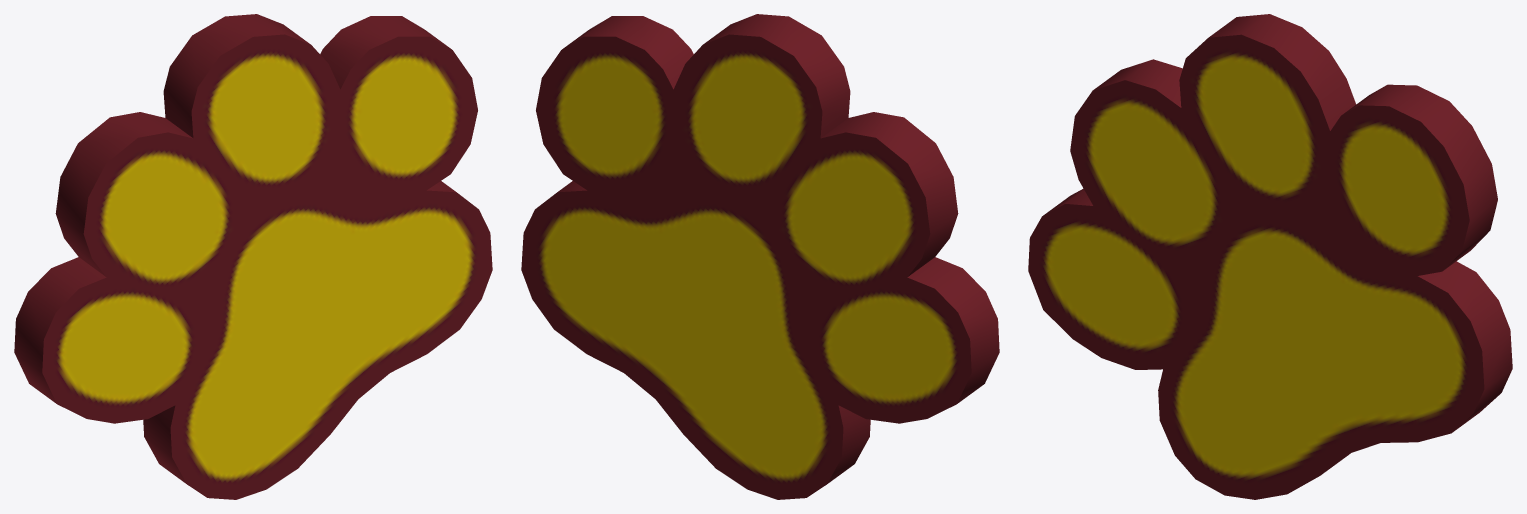
Rendered from icon.ico.obj.
3 views of the same model, side by side, from view 1: azimuth 30°, elevation 25°; view 2: azimuth 150°, elevation 25°; view 3: azimuth 330°, elevation 25° (orthographic).
Bounding box in the file's own units: 4.59 × 4.47 × 0.4932.
Materials: 1 (1 with a texture image).
